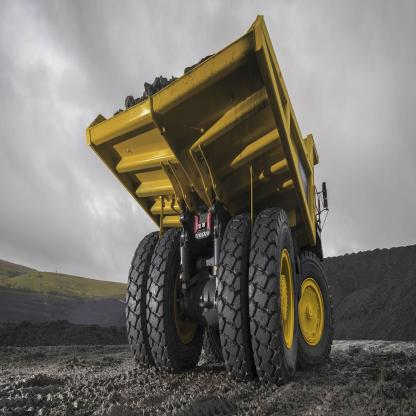dump_truck: (83, 12, 353, 386)
